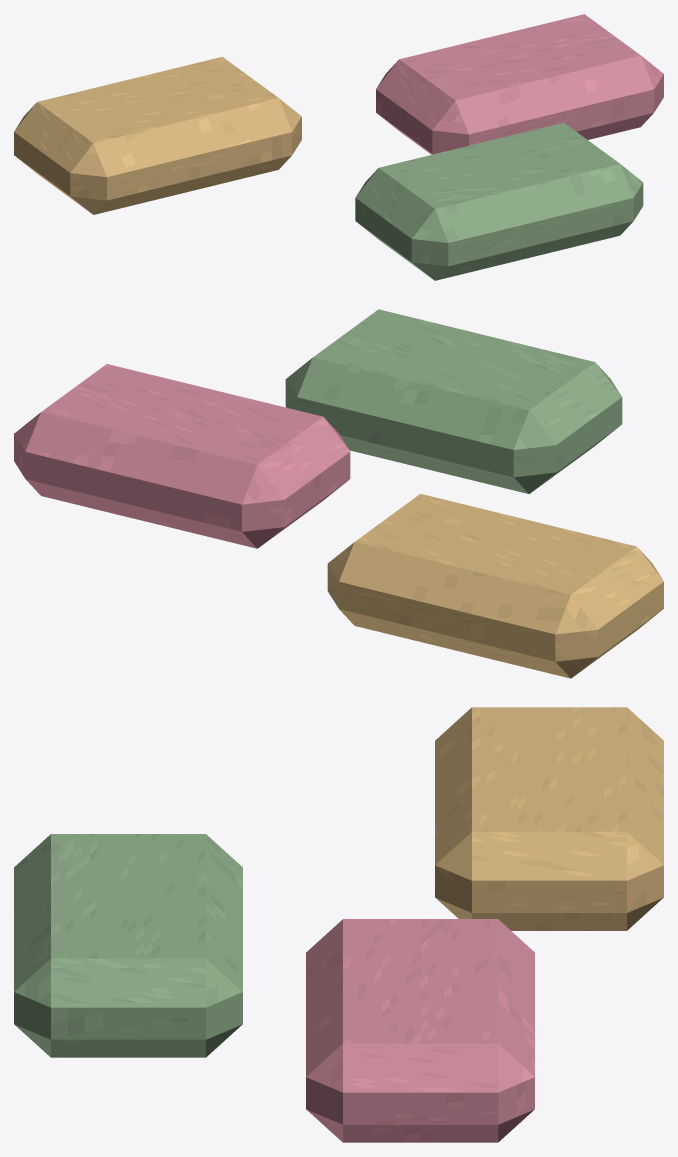
File: gum.glb
The picture shows the model from 3 angles, top to bottom: view 1: azimuth 30°, elevation 25°; view 2: azimuth 150°, elevation 25°; view 3: azimuth 270°, elevation 25°; orthographic projection. The views are drawn at different scales.
Parts seen in each view (by area): view 1: block_rounded gum tablet (×3); view 2: block_rounded gum tablet (×3); view 3: block_rounded gum tablet (×3).
Part boxes in pixels (x1,y1,x2,y2): block_rounded gum tablet (×3): [14, 14, 663, 280]; block_rounded gum tablet (×3): [14, 309, 663, 678]; block_rounded gum tablet (×3): [14, 707, 663, 1142].
Size of the model in its own units: 0.0241 by 0.00302 by 0.018.
Materials: 1 (1 with a texture image).
